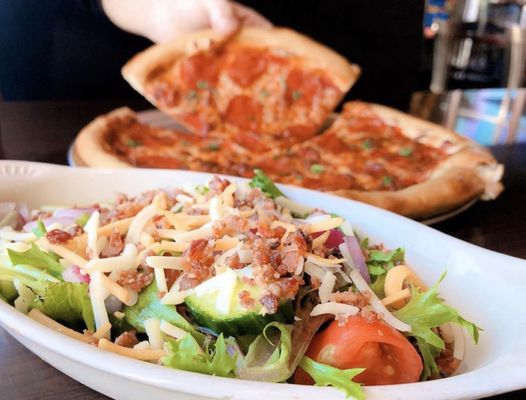sushi: (0, 166, 491, 397)
